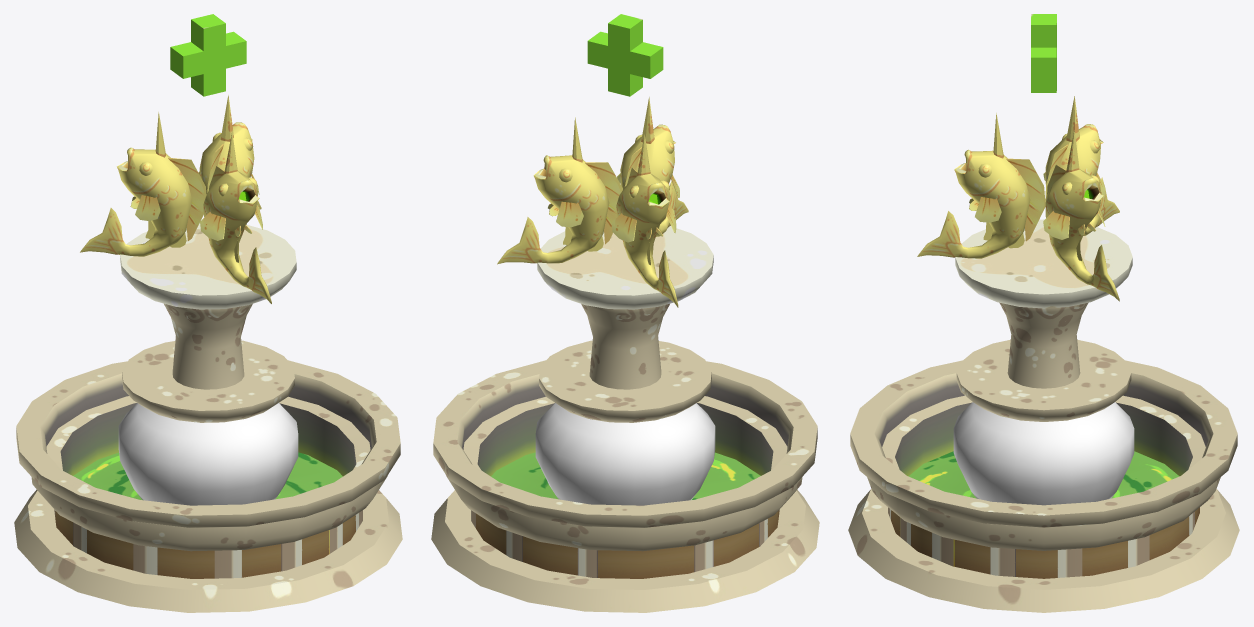
The model's file is Fountain.fbx.
3 views of the same model, side by side, from view 1: azimuth 30°, elevation 25°; view 2: azimuth 150°, elevation 25°; view 3: azimuth 270°, elevation 25° (orthographic).
Visible parts, largest first — view 1: tims_fish3; view 2: tims_fish3; view 3: tims_fish3.
Part boxes in pixels (x1,y1,x2,y2): tims_fish3: (14, 14, 402, 612); tims_fish3: (431, 14, 819, 612); tims_fish3: (848, 14, 1239, 612).
Size of the model in its own units: 97.93 by 141 by 97.93.
